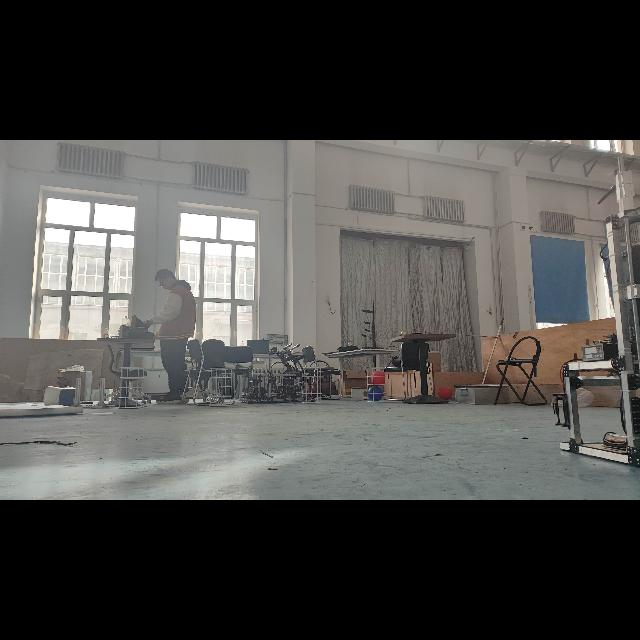B: (366, 388, 382, 402)
R: (371, 372, 387, 386)
S: (116, 365, 148, 411), (362, 365, 392, 405), (207, 366, 235, 408), (299, 365, 325, 407)
